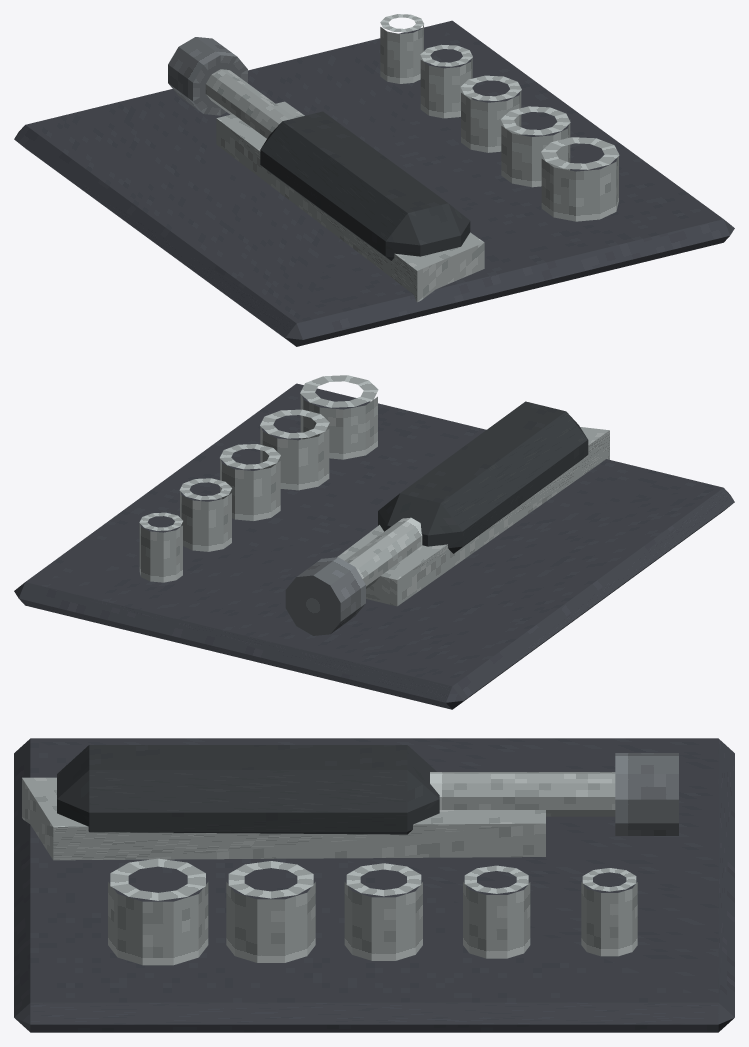
Rendered from socket_screwdriver_set.glb.
3 renders of one model, top to bottom at view 1: azimuth 30°, elevation 25°; view 2: azimuth 150°, elevation 25°; view 3: azimuth 270°, elevation 25°, orthographic. The views are drawn at different scales.
Parts seen in each view (by area): view 1: block_socket tray, block_screwdriver grip, block_loose socket (×5), block_wrench handle, block_socket drive collar, block_socket screwdriver shaft; view 2: block_socket tray, block_screwdriver grip, block_loose socket (×5), block_wrench handle, block_socket drive collar, block_socket screwdriver shaft; view 3: block_socket tray, block_screwdriver grip, block_loose socket (×5), block_wrench handle, block_socket screwdriver shaft, block_socket drive collar.
Part boxes in pixels (box(x1,y1,x2,y2)): block_socket tray: box(14, 20, 734, 346); block_screwdriver grip: box(260, 111, 470, 260); block_loose socket (×5): box(380, 25, 618, 221); block_wrench handle: box(216, 101, 484, 302); block_socket drive collar: box(168, 37, 247, 115); block_socket screwdriver shaft: box(205, 69, 294, 138); block_socket tray: box(14, 383, 734, 709); block_screwdriver grip: box(378, 401, 588, 553); block_loose socket (×5): box(139, 390, 377, 582); block_wrench handle: box(337, 427, 609, 606); block_socket drive collar: box(285, 557, 365, 635); block_socket screwdriver shaft: box(345, 517, 422, 588); block_socket tray: box(14, 738, 734, 1032); block_screwdriver grip: box(57, 745, 439, 834); block_loose socket (×5): box(108, 882, 637, 965); block_wrench handle: box(22, 777, 545, 860); block_socket screwdriver shaft: box(430, 772, 615, 816); block_socket drive collar: box(615, 753, 678, 835).
Bounding box in the file's own units: 0.2557 × 0.0463 × 0.28.
1 material, 1 textured.
